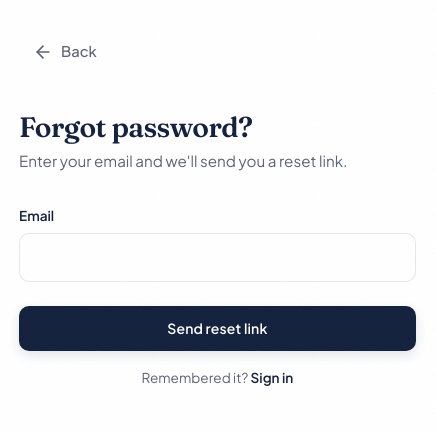
ForgotPasswordPage › shows error when fetch fails
Type "jane@test.com" into the field labelled "Email" at (217, 258), box [19,233,416,282]
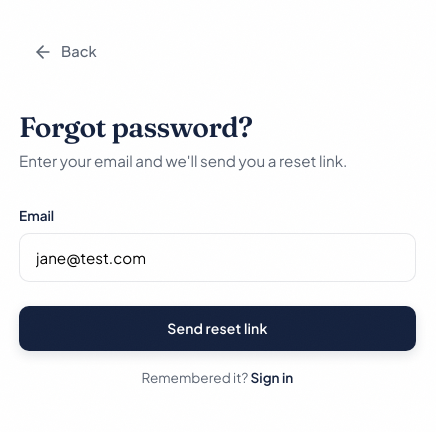
Submit the form "Email Send reset link Remembered it? Sign in", box [19,205,416,388]
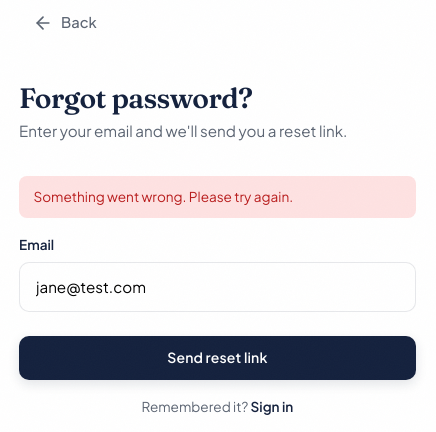
Expected: the text "Something went wrong. Please try again." is shown, [19,176,416,218]
